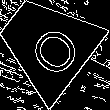O_NW: (14, 11, 79, 76)
